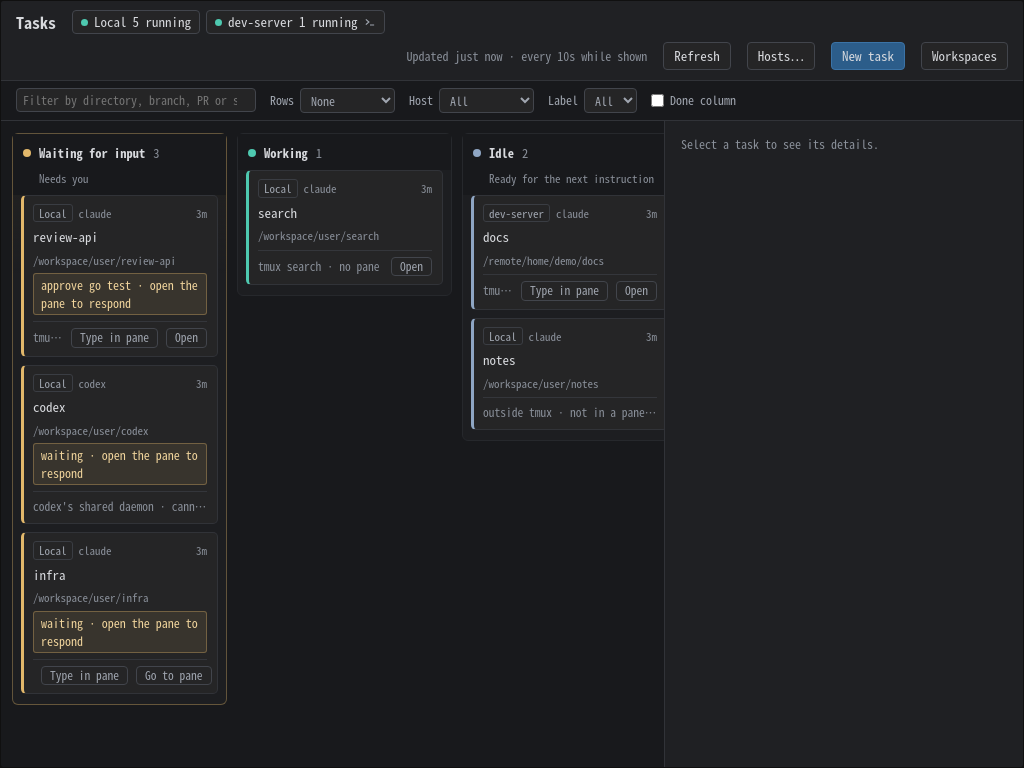
Test: TaskDashboard Type in pane: entry › offers Type in pane on waiting and idle cards that can be attached, and on the detail panel
Expected: the button with aria-label "Type in pane: " reads "Type in pane", [71,328,158,348]
Expected: the button with aria-label "Type in pane: " is shown, [521,281,608,301]
Click the button "review-api" at (120, 237), box [33,227,207,247]
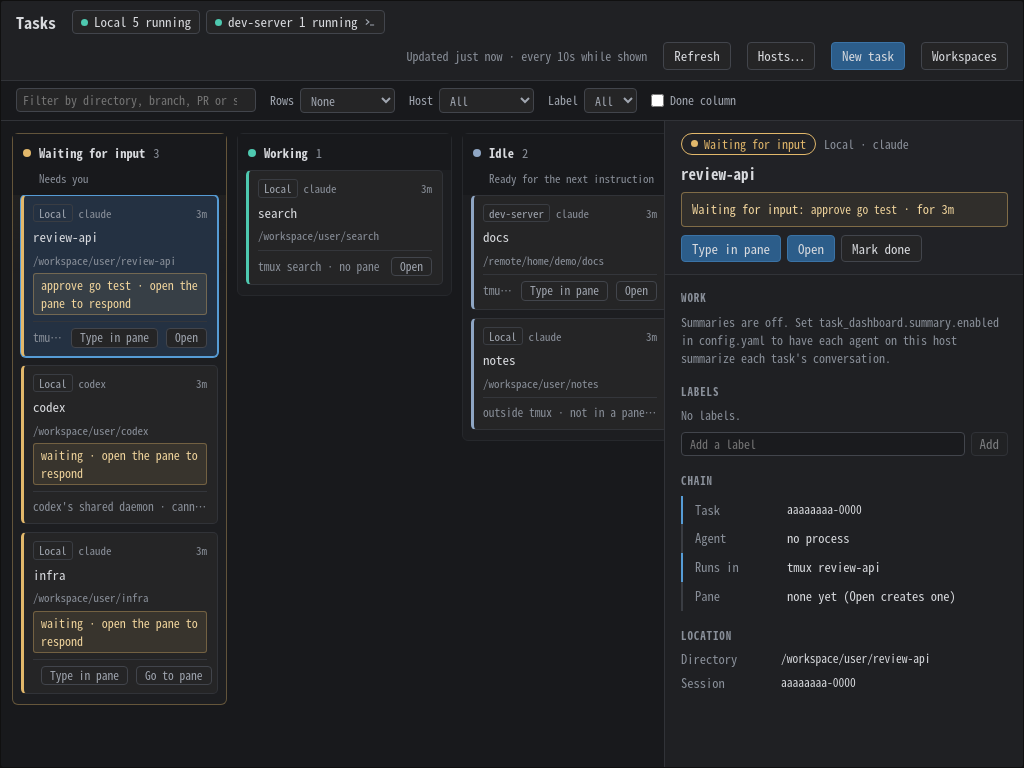
Expected: the button with aria-label "Type in pane: " is shown, [681,235,781,262]
Expected: the button with aria-label "Open: " is shown, [787,235,835,262]
